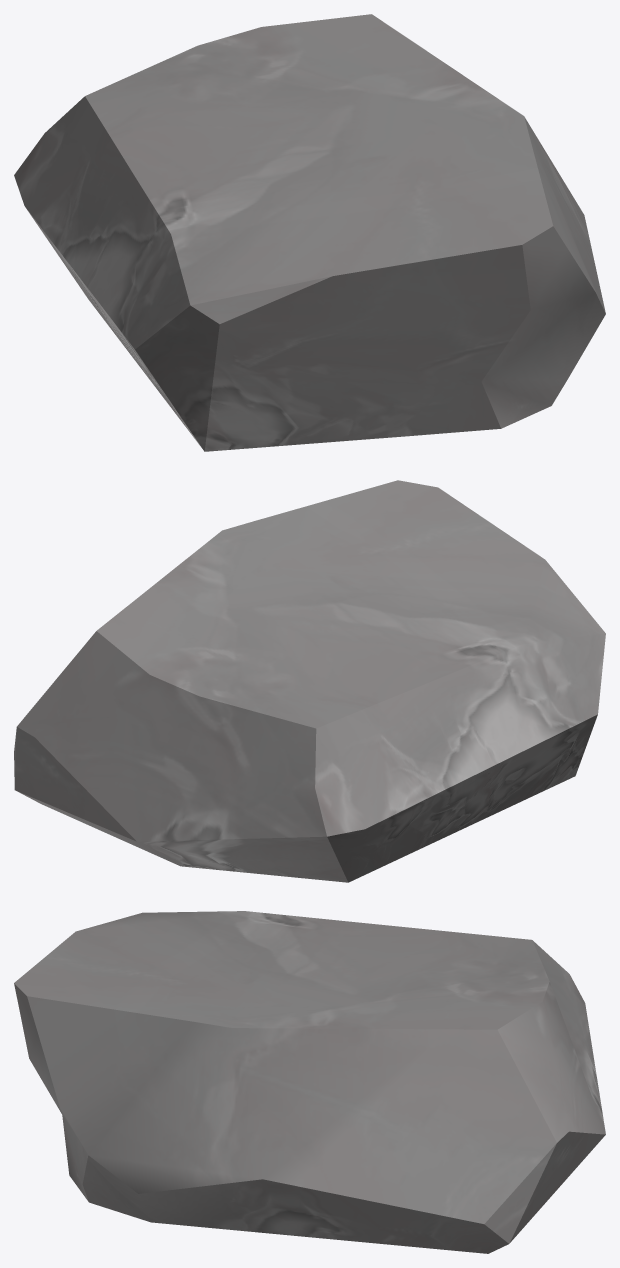
Rendered from pedra_03.fbx.
3 views of the same model, one above another, from view 1: azimuth 30°, elevation 25°; view 2: azimuth 150°, elevation 25°; view 3: azimuth 270°, elevation 25° (orthographic). The views are drawn at different scales.
Visible parts, largest first — view 1: Pedra.002; view 2: Pedra.002; view 3: Pedra.002.
Part boxes in pixels (left/top/right/bottom): Pedra.002: left=14, top=14, right=605, bottom=451; Pedra.002: left=14, top=480, right=605, bottom=882; Pedra.002: left=14, top=911, right=605, bottom=1253.
Size of the model in its own units: 47.3 by 19.82 by 53.6.
